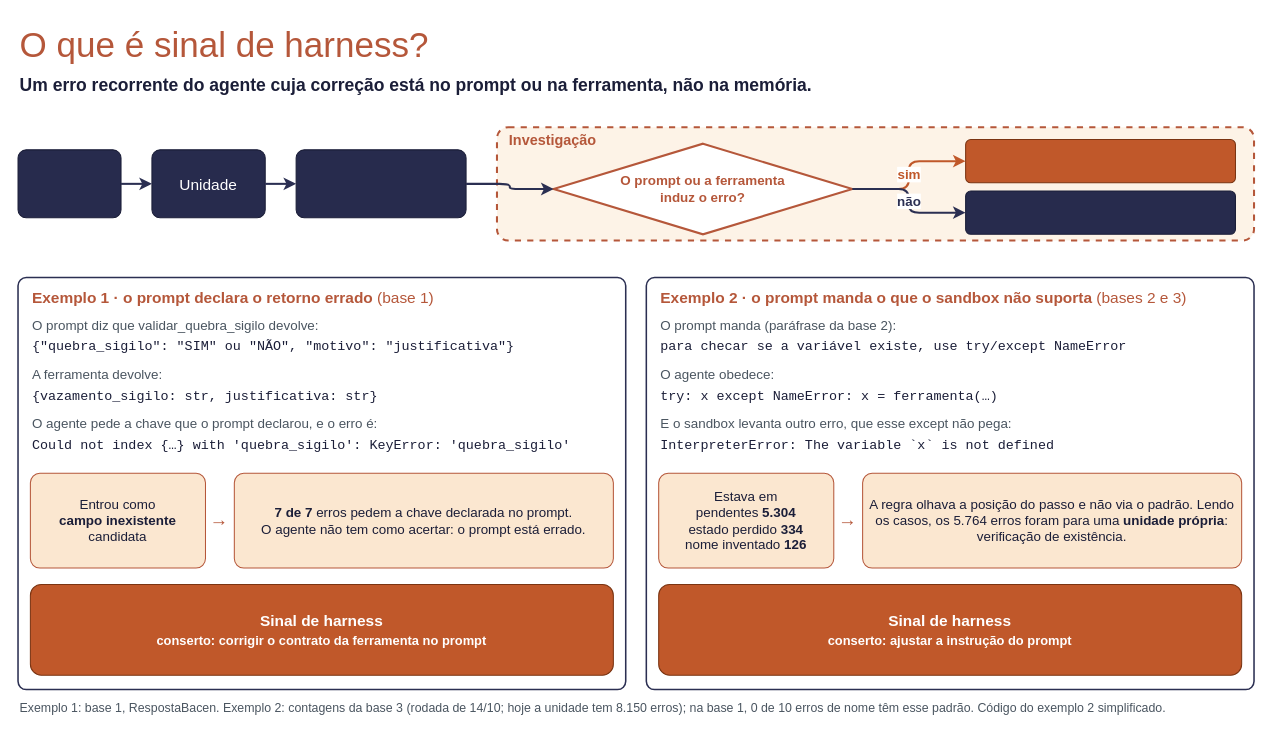
Image size: 1273x737. Some labels were removed from this diagram. The centre of each missing label's shape, as x and y in pixels:
"Destino: memória" goes at [1100,212].
"Destino: sinal de harness" goes at [1100,161].
"Erro" goes at [69,183].
"Triagem ≥ 3 execuções e ≥ 2 meses" goes at [380,183].
